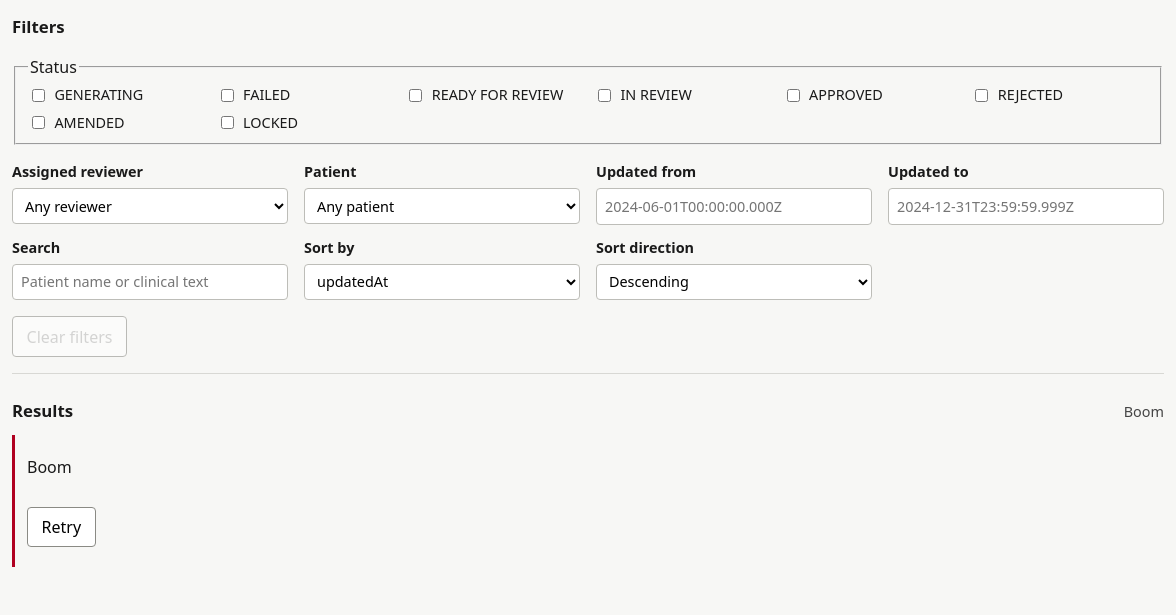
NotesListPage › 40,67: error state displays retry and recovers
This screenshot has width=1176, height=615.
Check: the message "Boom Retry" is shown, box left=12, top=435, right=1164, bottom=567
Click the button "Retry". click: x=61, y=527
box: left=27, top=507, right=96, bottom=547
(page scrolled)
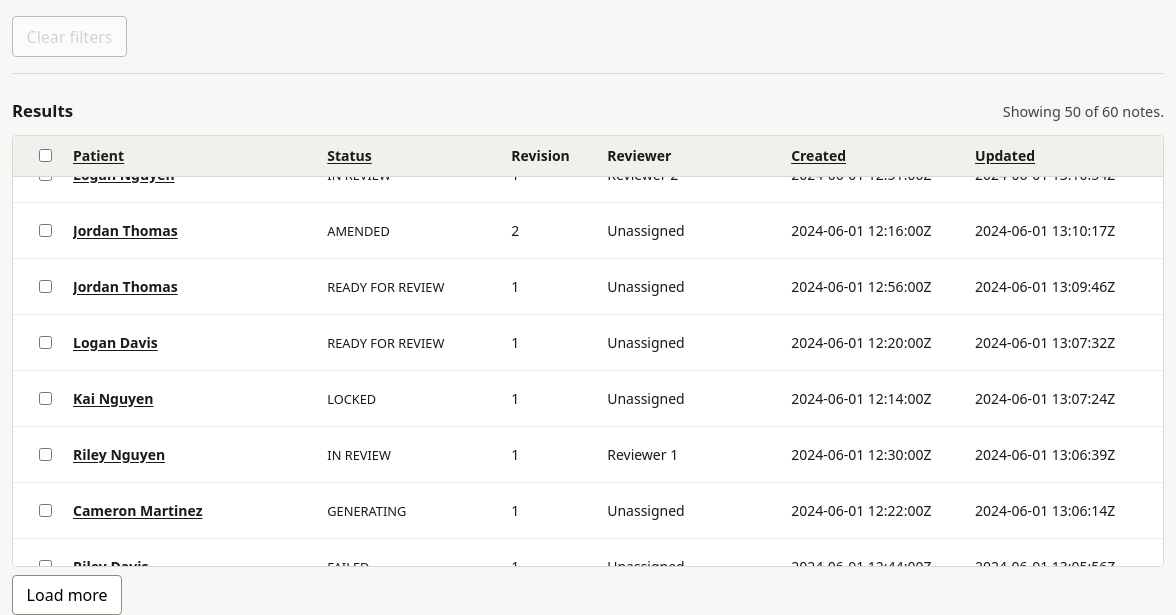
Check: the message "Boom Retry" is gone
